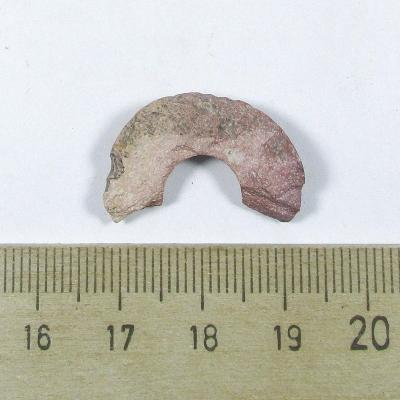archeology: (101, 92, 306, 224)
